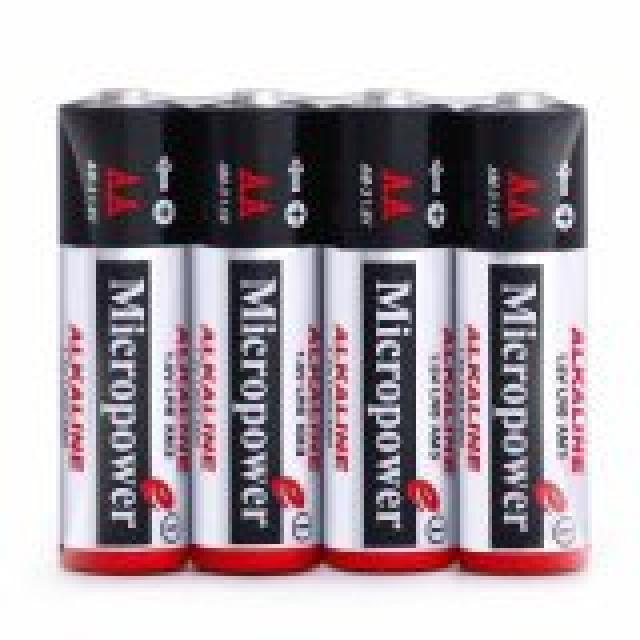AA: (458, 85, 605, 575), (54, 73, 192, 578), (328, 69, 454, 571), (188, 77, 312, 577)
